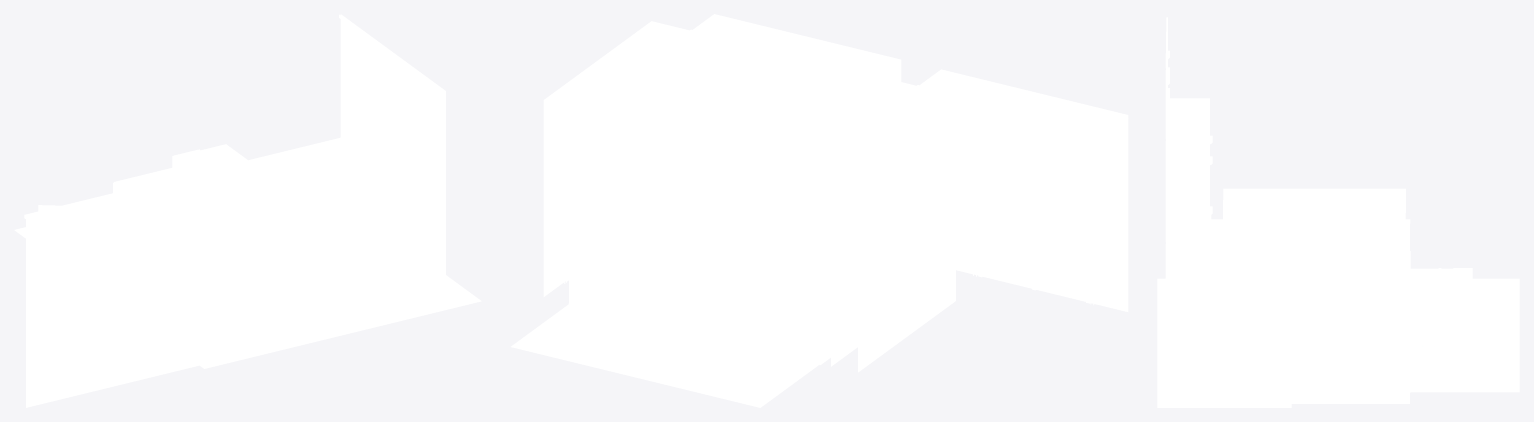
File: stage.glb
The picture shows the model from 3 angles, left to right: view 1: azimuth 30°, elevation 25°; view 2: azimuth 150°, elevation 25°; view 3: azimuth 270°, elevation 25°; orthographic projection. The views are drawn at different scales.
Parts seen in each view (by area): view 1: KORE_export_5_buildings_1_0_0, KORE_export_5_ground_1_0_0; view 2: KORE_export_5_buildings_1_0_0, KORE_export_5_ground_1_0_0, KORE_export_5_wood_1_0_0; view 3: KORE_export_5_buildings_1_0_0, KORE_export_5_ground_1_0_0.
Part boxes in pixels (x1,y1,x2,y2): KORE_export_5_buildings_1_0_0: (14,14,481,407); KORE_export_5_ground_1_0_0: (114,149,199,192); KORE_export_5_buildings_1_0_0: (511,14,1128,407); KORE_export_5_ground_1_0_0: (596,245,780,369); KORE_export_5_wood_1_0_0: (595,245,780,370); KORE_export_5_buildings_1_0_0: (1157,17,1519,407); KORE_export_5_ground_1_0_0: (1410,268,1496,358).
Bounding box in the file's own units: 18 × 7.39 × 13.12.
5 materials, 5 textured.
